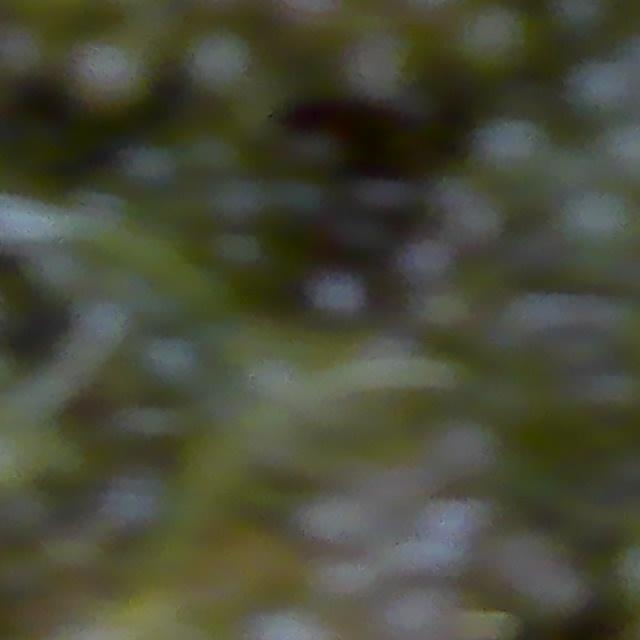SeaGrape: (337, 24, 421, 110), (292, 483, 376, 555), (183, 26, 257, 101), (472, 113, 549, 184), (559, 186, 636, 250), (301, 569, 386, 615), (0, 14, 51, 85), (382, 598, 461, 640), (551, 0, 611, 37)
